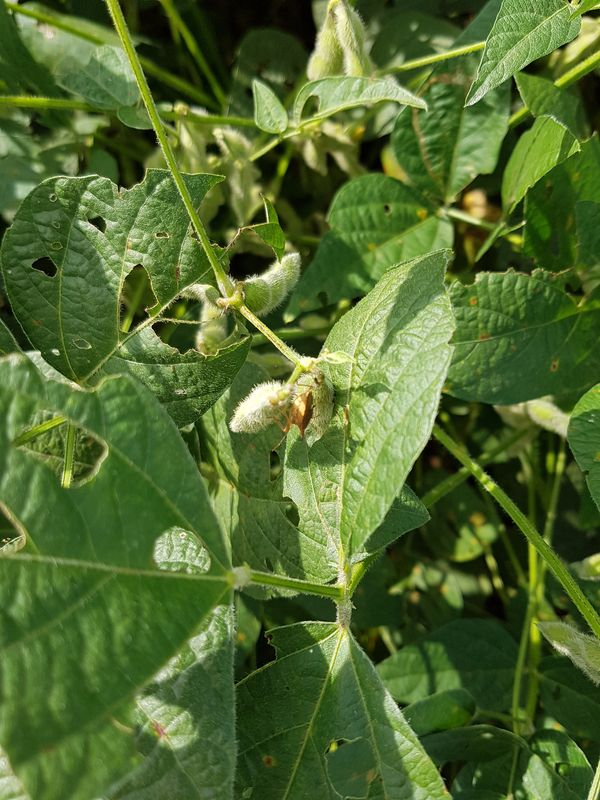Euschistus_heros_adulto: (264, 380, 325, 452)
